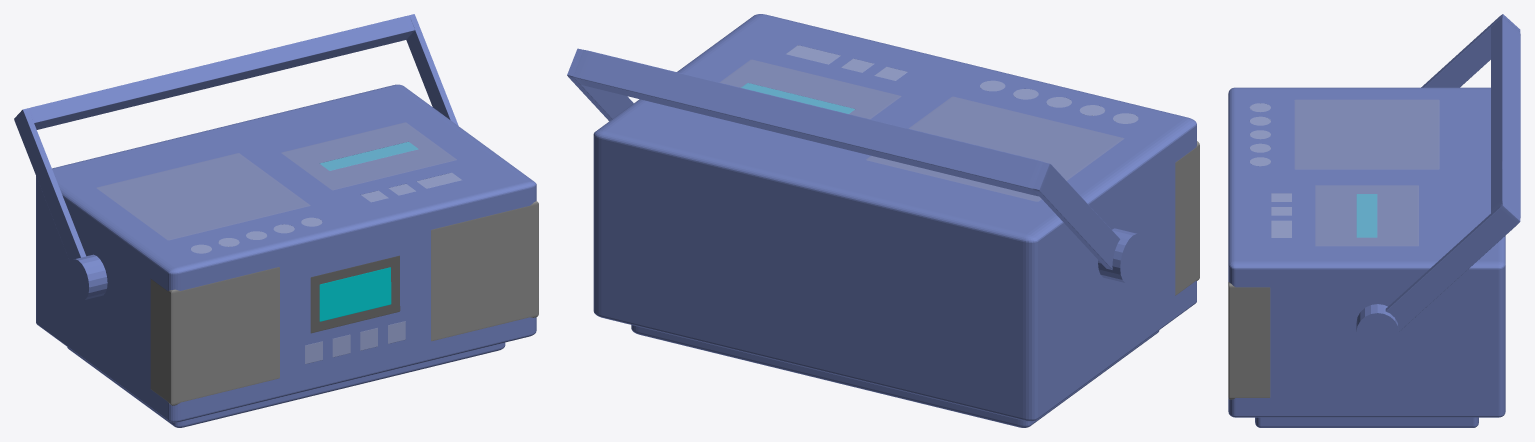
File: radio.glb
The picture shows the model from 3 angles, left to right: view 1: azimuth 30°, elevation 25°; view 2: azimuth 150°, elevation 25°; view 3: azimuth 270°, elevation 25°; orthographic projection. The views are drawn at different scales.
Visible parts, largest first — view 1: Mesh_Mesh_head_geo.001_lambert2SG.001; view 2: Mesh_Mesh_head_geo.001_lambert2SG.001; view 3: Mesh_Mesh_head_geo.001_lambert2SG.001.
Boxes of the visible parts, x1,y1,x2,y2 form: Mesh_Mesh_head_geo.001_lambert2SG.001: (14, 14, 538, 427); Mesh_Mesh_head_geo.001_lambert2SG.001: (567, 14, 1199, 427); Mesh_Mesh_head_geo.001_lambert2SG.001: (1228, 14, 1520, 427).
Size of the model in its own units: 22 by 12.39 by 13.7.
